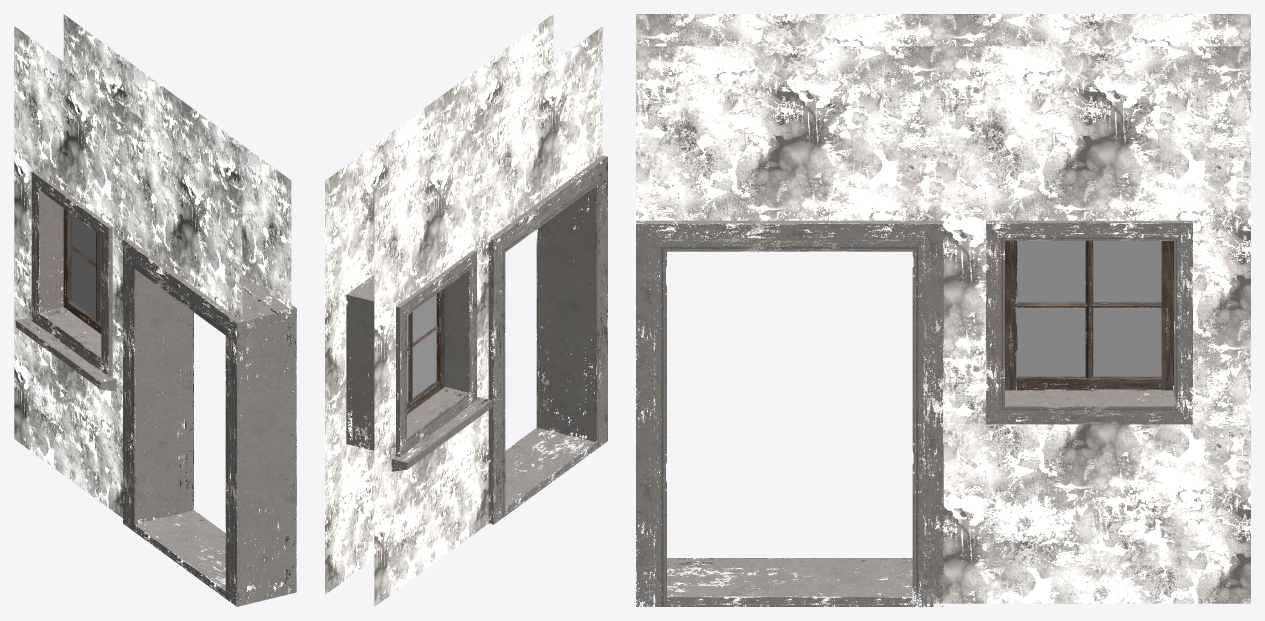
File: SM_wall_A_doorway_4x4_02_01.fbx
3 renders of one model, left to right at view 1: azimuth 30°, elevation 25°; view 2: azimuth 150°, elevation 25°; view 3: azimuth 270°, elevation 25°, orthographic. The views are drawn at different scales.
Parts seen in each view (by area): view 1: SM_wall_A_doorway_4x4_02_01_LOD0; view 2: SM_wall_A_doorway_4x4_02_01_LOD0; view 3: SM_wall_A_doorway_4x4_02_01_LOD0.
Boxes of the visible parts, x1,y1,x2,y2 form: SM_wall_A_doorway_4x4_02_01_LOD0: [14, 14, 296, 606]; SM_wall_A_doorway_4x4_02_01_LOD0: [325, 14, 607, 606]; SM_wall_A_doorway_4x4_02_01_LOD0: [636, 14, 1250, 606].
Bounding box in the file's own units: 71.08 × 400 × 400.
5 materials, 4 textured.
